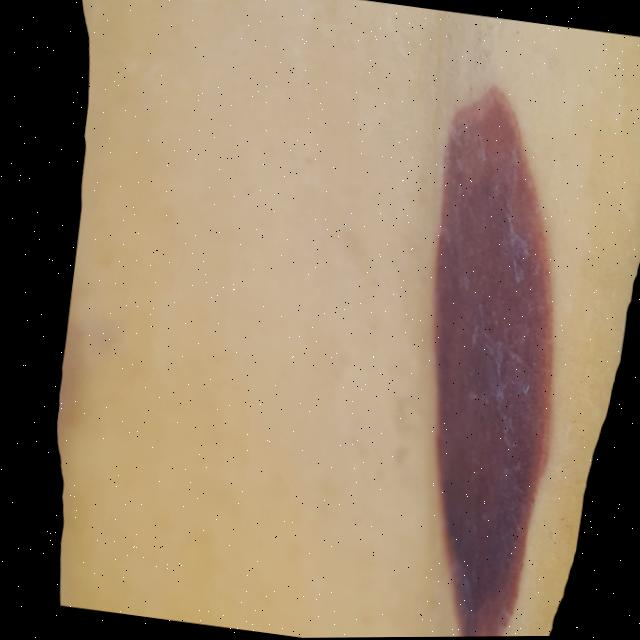mite: (404, 111, 581, 459), (453, 295, 547, 419), (498, 229, 537, 288), (546, 511, 574, 553), (513, 375, 535, 403), (553, 511, 576, 536), (390, 443, 411, 469), (545, 531, 563, 553), (518, 381, 531, 398), (557, 515, 570, 528), (266, 0, 292, 5), (549, 536, 559, 548), (512, 27, 522, 37)
sunburn: (373, 77, 600, 638)
